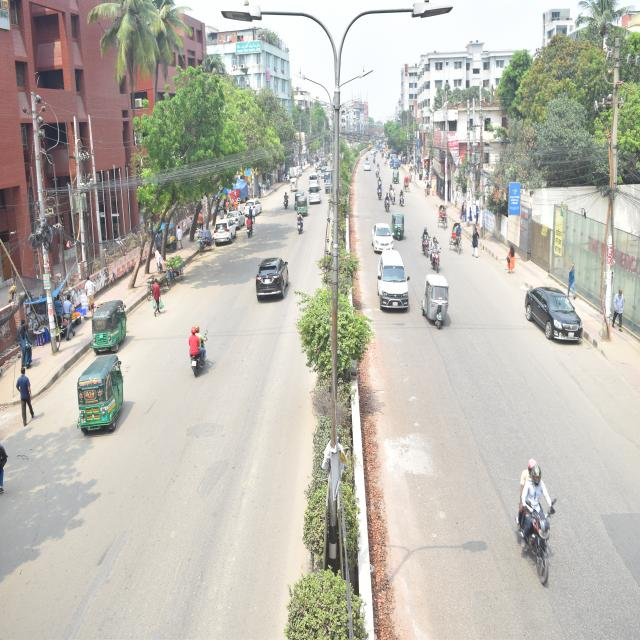car: (523, 283, 587, 354), (256, 256, 289, 304), (372, 218, 394, 252)
microbus: (378, 254, 412, 319), (214, 217, 237, 246), (308, 177, 320, 206), (246, 198, 260, 216)
motorbike: (187, 334, 211, 375), (428, 242, 444, 274), (420, 233, 432, 256), (388, 182, 396, 203), (398, 190, 406, 210), (382, 191, 390, 211), (246, 214, 253, 236), (296, 212, 304, 230), (376, 183, 383, 200), (284, 193, 290, 207)
